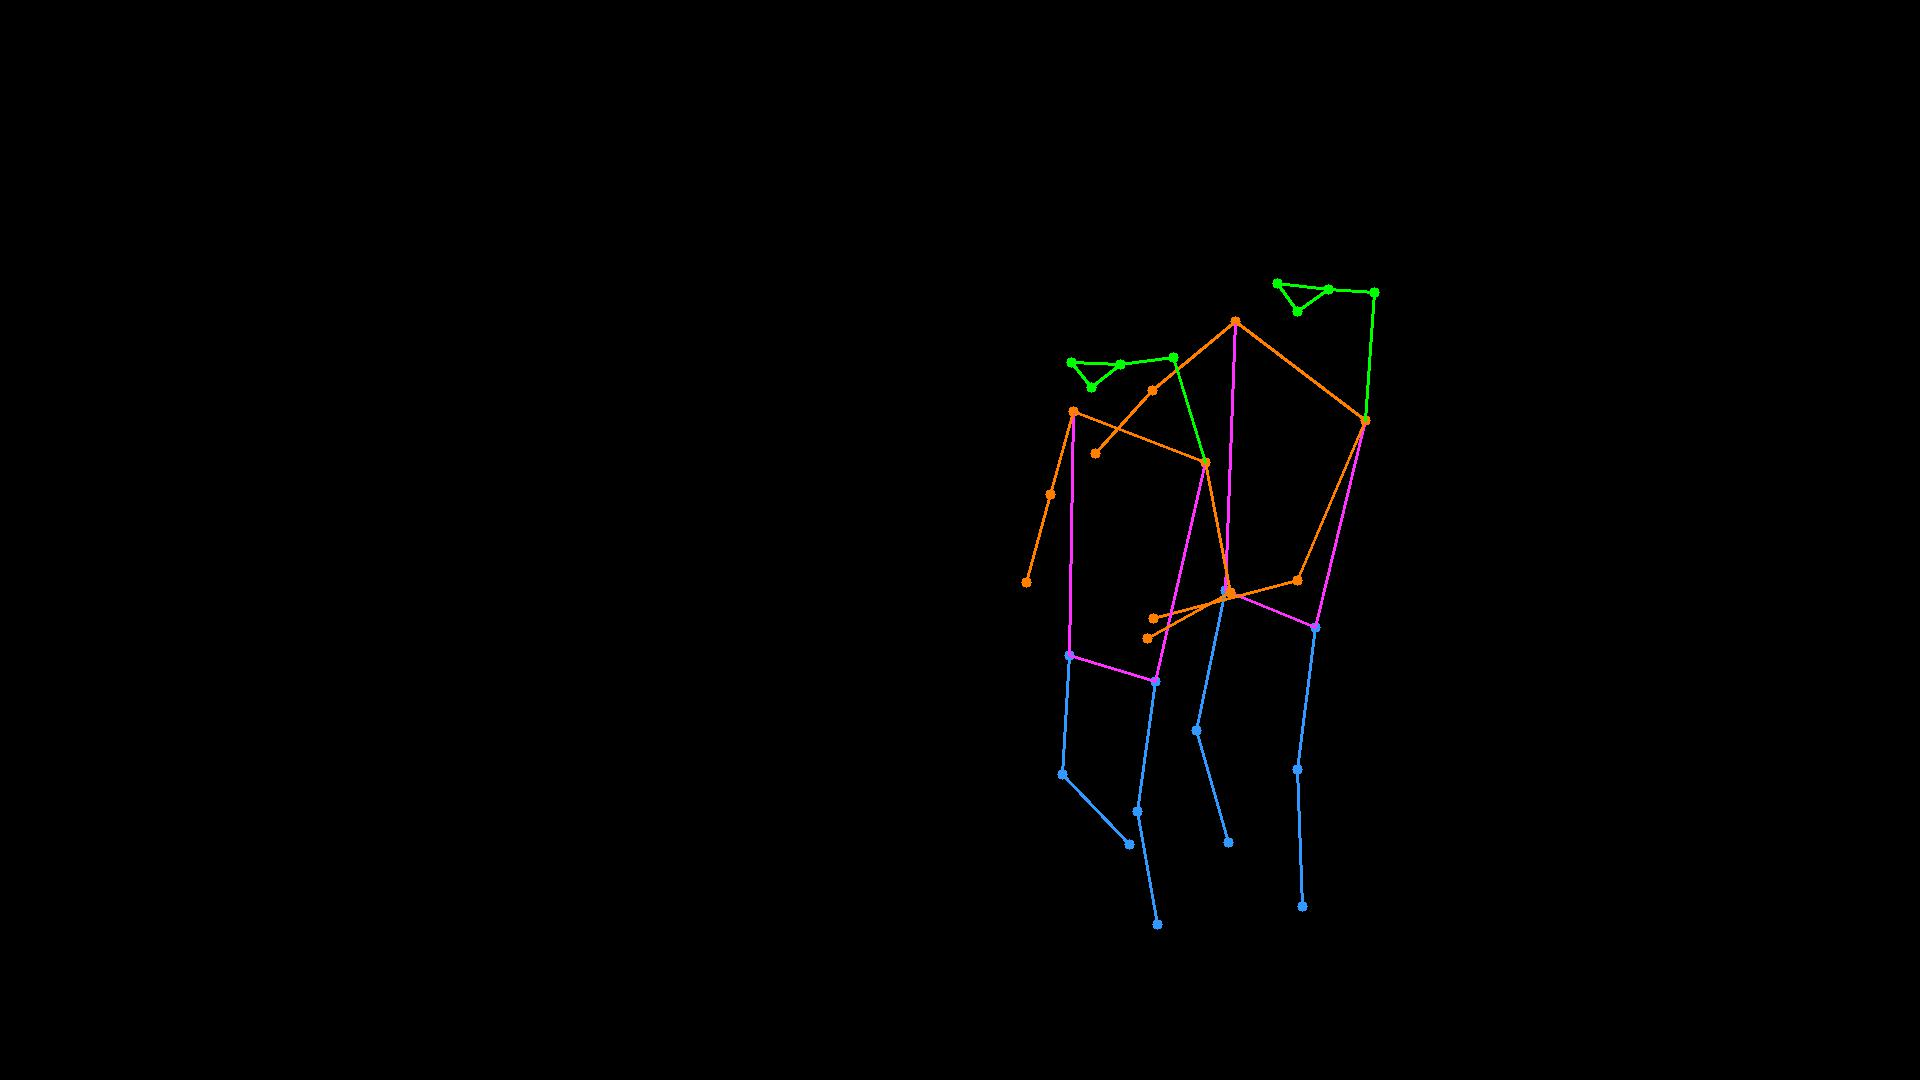normal: (938, 235, 1435, 994)
